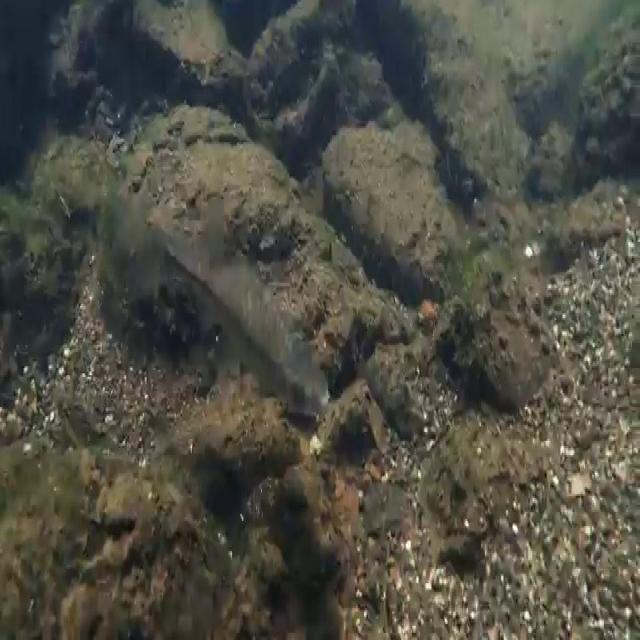Cakil Baligi: (140, 198, 334, 416)
